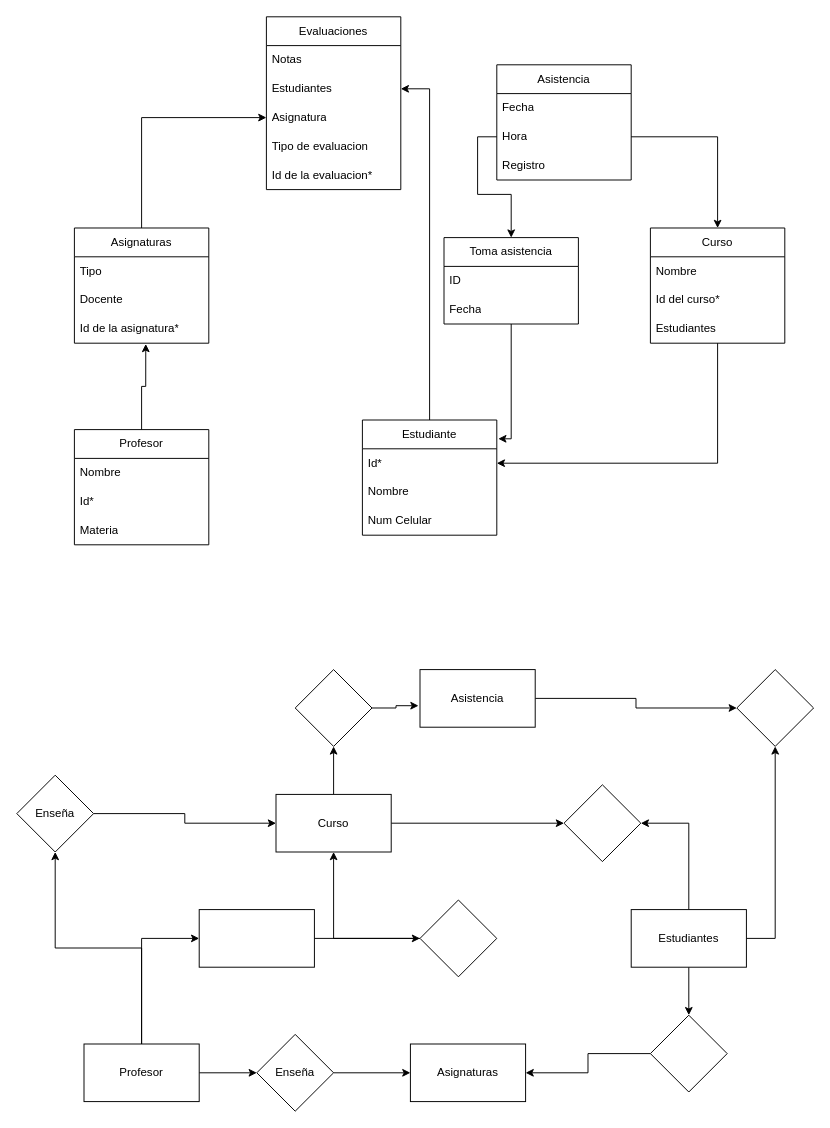
The diagram is 830 pixels wide and 1128 high, and some of its shapes have lost their labels. The centre of each missing label's shape, as x and y in pixels:
"Deben" goes at point 775,707.
"Evaluacion" goes at point 256,938.
"Guarda" goes at point 458,938.
"Pasan" goes at point 688,1053.
"Pertenece" goes at point 602,823.
"Toma" goes at point 333,707.
